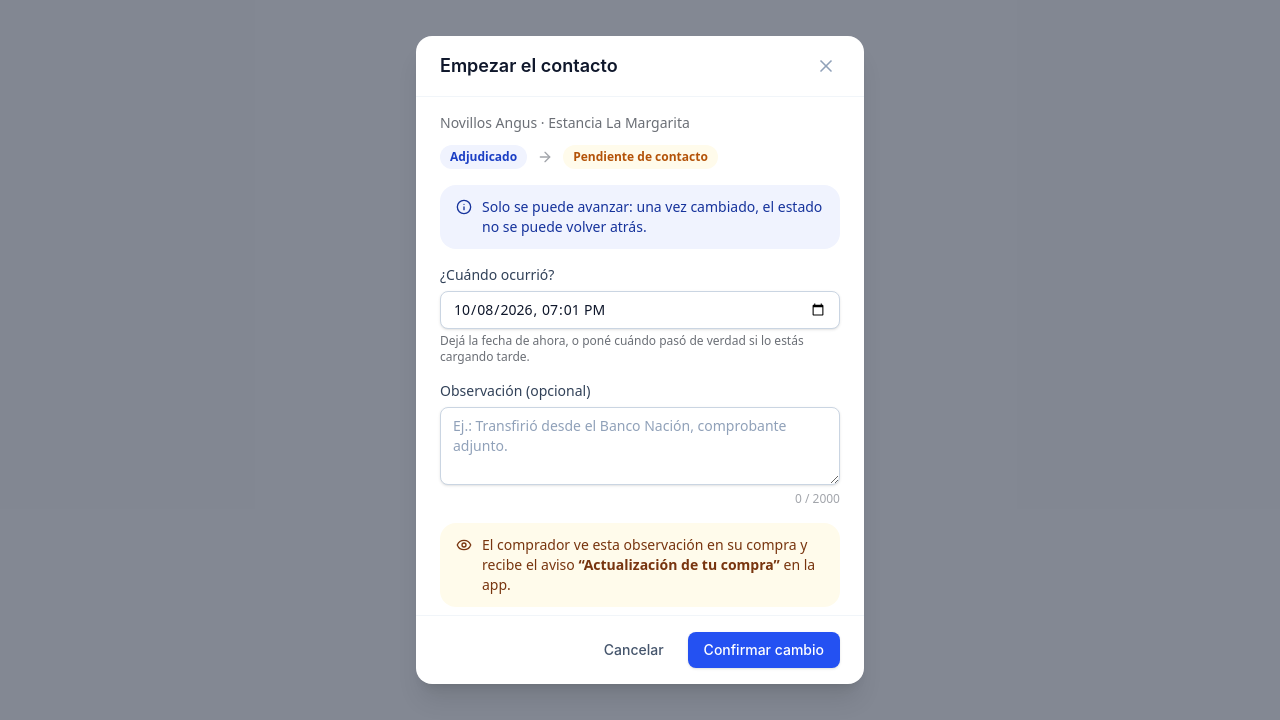
StatusChangeDialog › un error del backend se muestra dentro del diálogo y no lo cierra
Click the button "Confirmar cambio": (764, 650) [688,632,840,668]
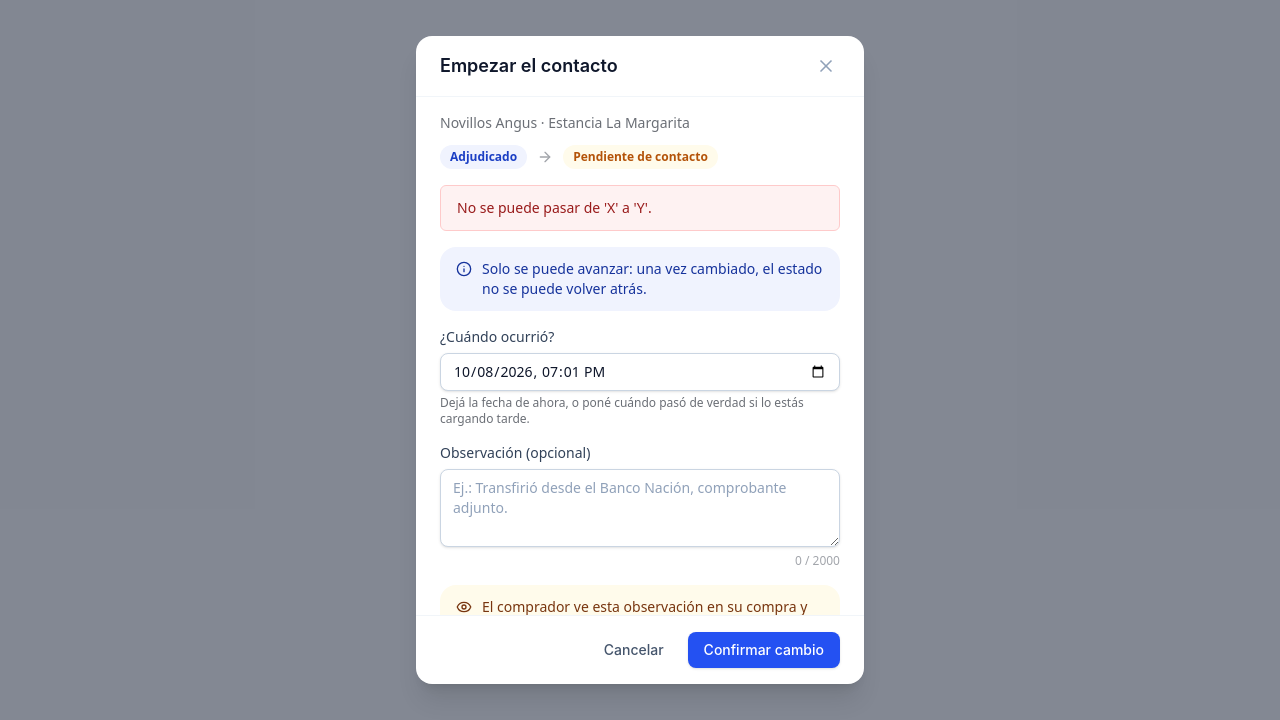
Check: the text "No se puede pasar de 'X' a 'Y'." is shown, box [440,185,840,231]
